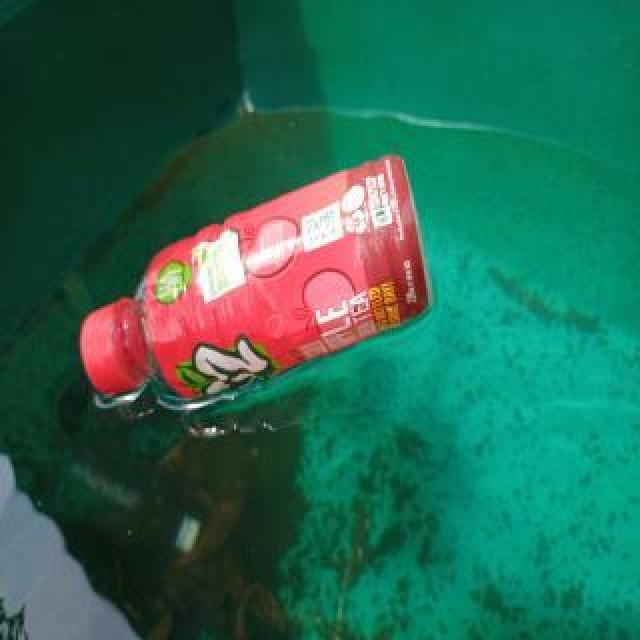bottle: (78, 151, 432, 405)
